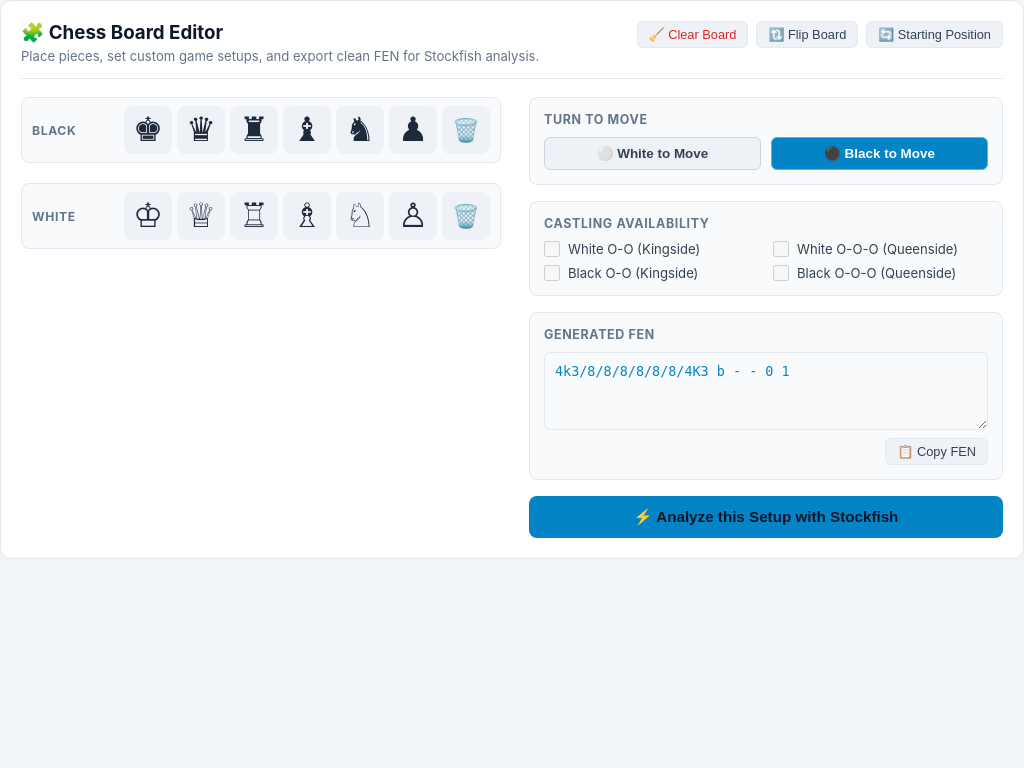
Scenario: BoardEditor board buttons › restores the starting position, side to move and castling
Click the button "🔄 Starting Position" at (935, 34), box left=866, top=21, right=1003, bottom=48
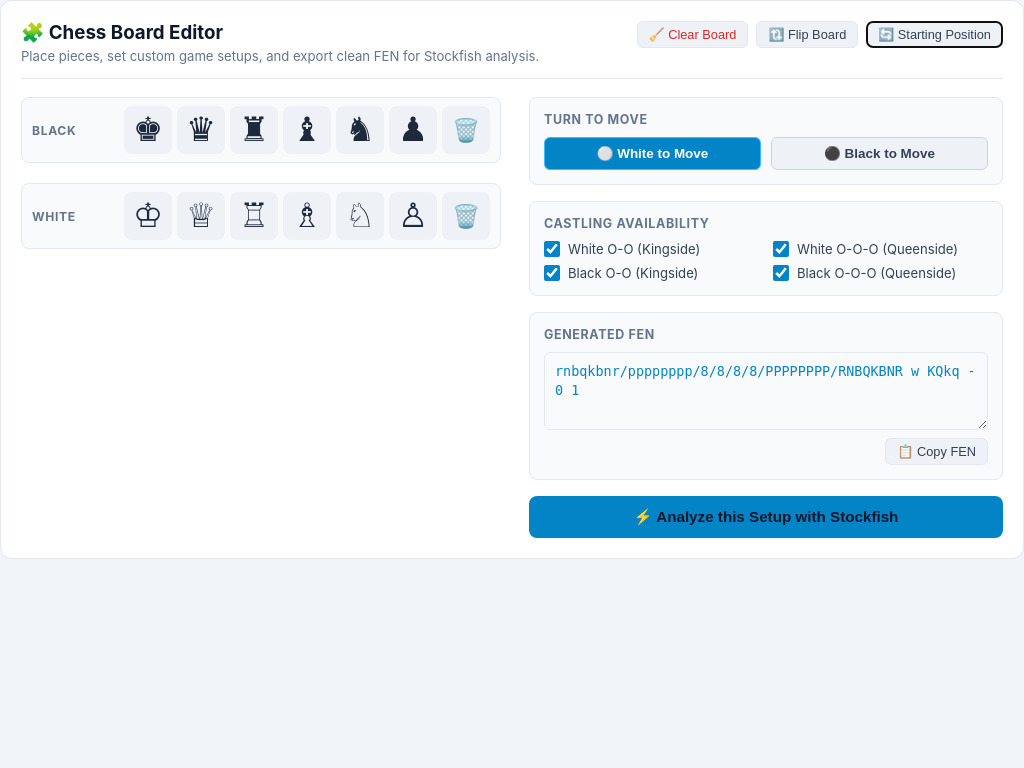
Expected: the text box holds "rnbqkbnr/pppppppp/8/8/8/8/PPPPPPPP/RNBQKBNR w KQkq - 0 1", left=544, top=352, right=988, bottom=430
